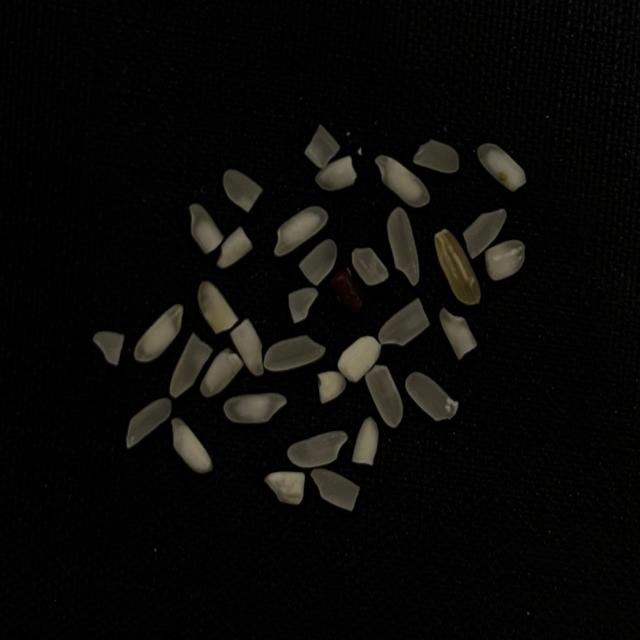Broken: (434, 228, 482, 305), (170, 334, 213, 398), (378, 296, 431, 346), (405, 372, 458, 421), (477, 143, 527, 193), (365, 365, 404, 428), (126, 396, 172, 449), (462, 208, 507, 260), (200, 347, 244, 398), (310, 468, 360, 512), (198, 281, 239, 334), (439, 307, 478, 361), (337, 336, 381, 382), (230, 318, 264, 376), (298, 239, 338, 286), (189, 203, 224, 254), (223, 168, 263, 212), (485, 239, 525, 281), (304, 123, 340, 169), (413, 139, 459, 173), (216, 226, 253, 268), (315, 155, 357, 191), (352, 247, 389, 286), (263, 471, 305, 505), (352, 416, 379, 466), (93, 330, 125, 366), (288, 287, 319, 324), (317, 371, 346, 404)
Full: (375, 154, 431, 209), (273, 205, 329, 257), (134, 304, 184, 362), (387, 207, 420, 286), (264, 334, 326, 372), (286, 430, 349, 467), (172, 418, 214, 473), (223, 392, 288, 423)
